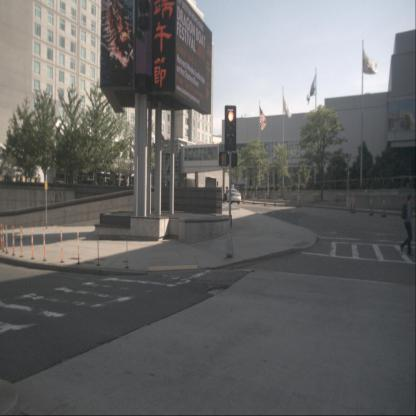human-pedestrian-adult: (400, 194, 414, 256)
movable_object-trafficcone: (125, 232, 130, 270), (76, 229, 81, 266), (96, 230, 101, 267), (42, 227, 47, 262), (19, 225, 24, 259), (60, 228, 64, 264), (31, 226, 35, 261), (12, 225, 16, 257), (5, 224, 9, 255), (382, 196, 387, 218), (2, 224, 5, 253), (0, 222, 3, 251), (369, 196, 373, 216), (349, 195, 353, 213), (352, 196, 356, 213), (284, 194, 288, 206), (299, 194, 302, 208), (263, 194, 266, 206), (274, 193, 276, 206), (297, 195, 299, 208), (253, 195, 255, 204)
vehicle-car: (223, 189, 241, 204)
